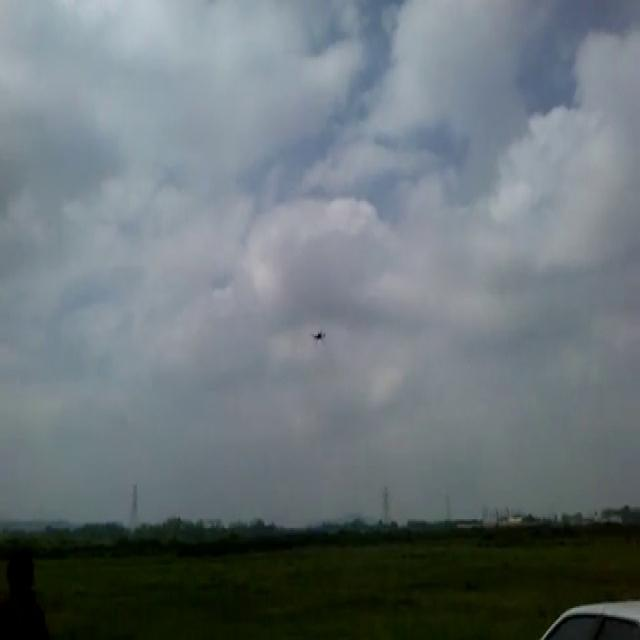drone: (309, 322, 328, 346)
